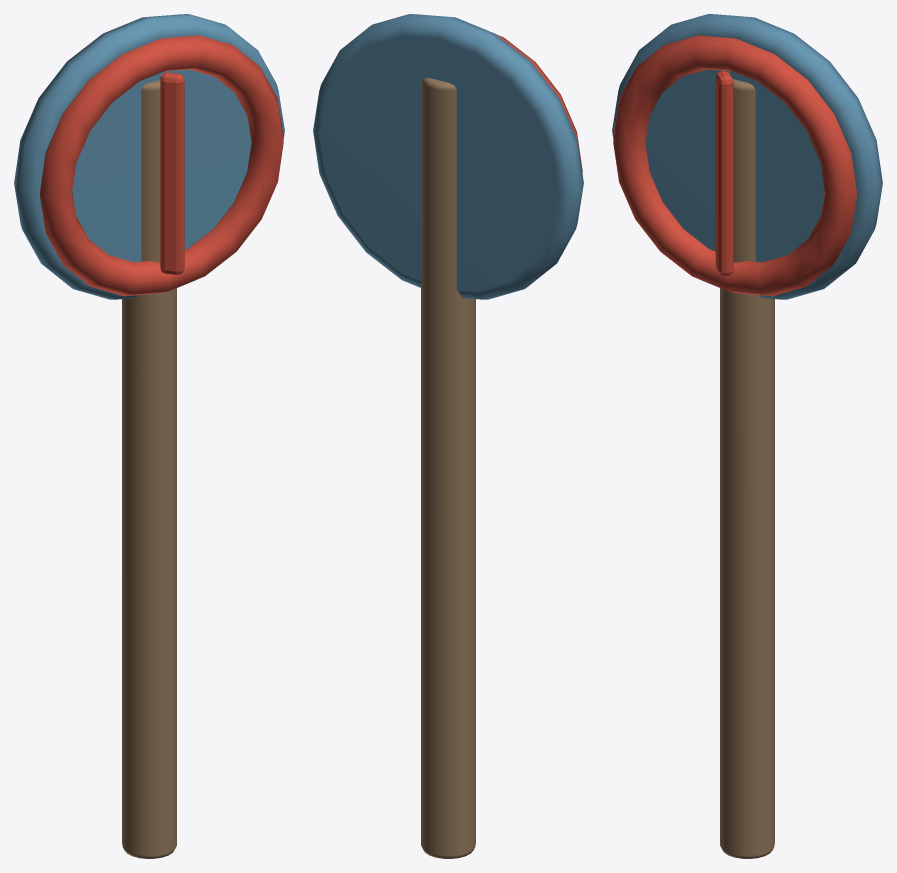
3 renders of one model, left to right at view 1: azimuth 30°, elevation 25°; view 2: azimuth 150°, elevation 25°; view 3: azimuth 330°, elevation 25°, orthographic.
Visible parts, largest first — view 1: LOD1_SIGN_NO_PARKING_Pole, LOD1_SIGN_NO_PARKING_Plate, LOD1_SIGN_NO_PARKING_RedRing, LOD1_SIGN_NO_PARKING_Slash; view 2: LOD1_SIGN_NO_PARKING_Plate, LOD1_SIGN_NO_PARKING_Pole; view 3: LOD1_SIGN_NO_PARKING_Pole, LOD1_SIGN_NO_PARKING_Plate, LOD1_SIGN_NO_PARKING_RedRing, LOD1_SIGN_NO_PARKING_Slash.
Boxes of the visible parts, x1=… form: LOD1_SIGN_NO_PARKING_Pole: x1=122, y1=80, x2=176, y2=858; LOD1_SIGN_NO_PARKING_Plate: x1=14, y1=14, x2=284, y2=299; LOD1_SIGN_NO_PARKING_RedRing: x1=40, y1=35, x2=283, y2=296; LOD1_SIGN_NO_PARKING_Slash: x1=160, y1=72, x2=184, y2=274; LOD1_SIGN_NO_PARKING_Plate: x1=313, y1=14, x2=583, y2=299; LOD1_SIGN_NO_PARKING_Pole: x1=421, y1=78, x2=475, y2=858; LOD1_SIGN_NO_PARKING_Pole: x1=720, y1=79, x2=774, y2=858; LOD1_SIGN_NO_PARKING_Plate: x1=612, y1=14, x2=882, y2=299; LOD1_SIGN_NO_PARKING_RedRing: x1=613, y1=35, x2=856, y2=296; LOD1_SIGN_NO_PARKING_Slash: x1=715, y1=71, x2=733, y2=276.
Size of what is drawn, in the model's own units: 1 by 3 by 0.2777.
